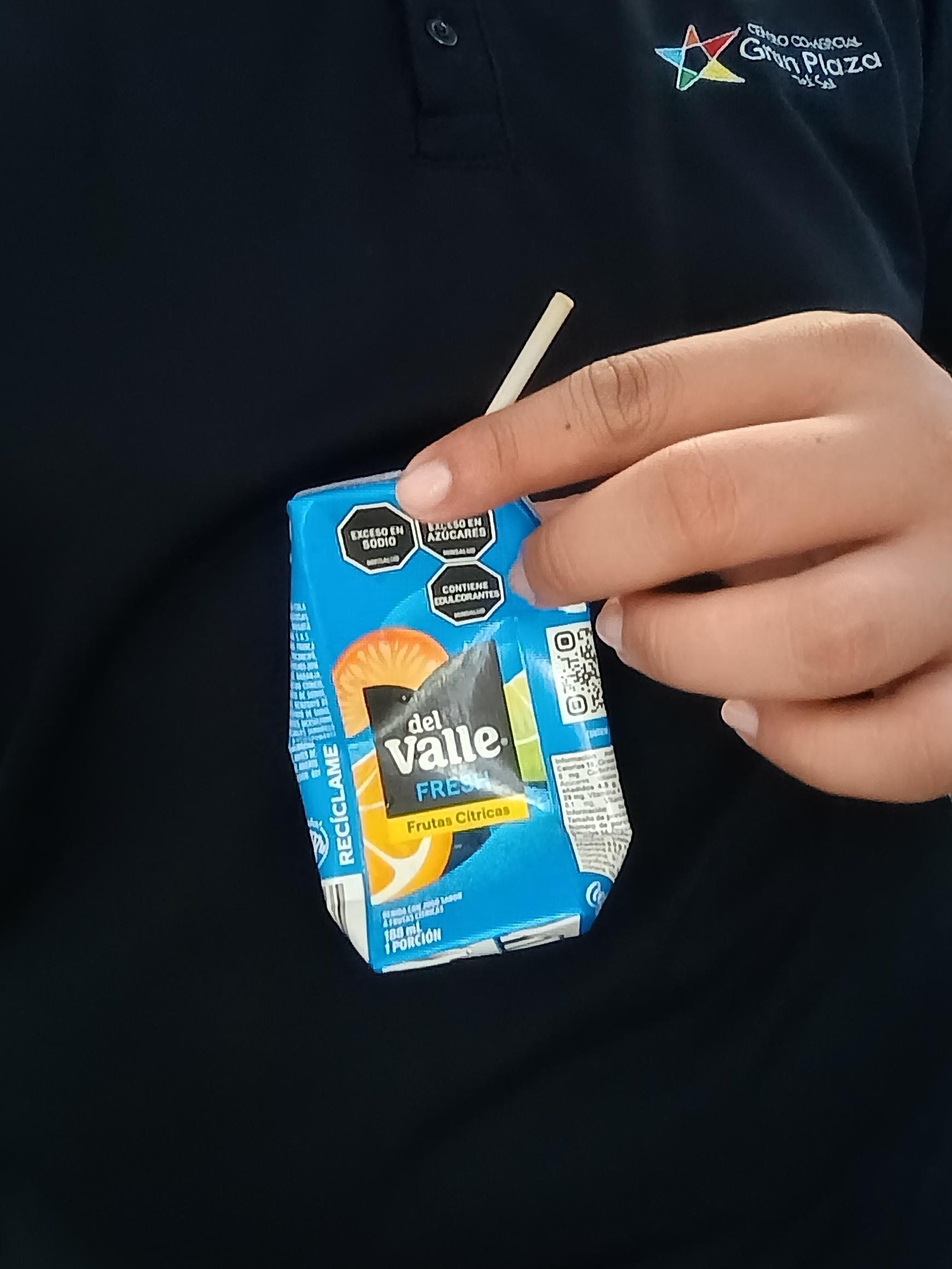Carton: (289, 462, 634, 975)
